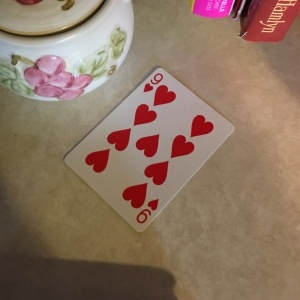card: (63, 67, 236, 233)
